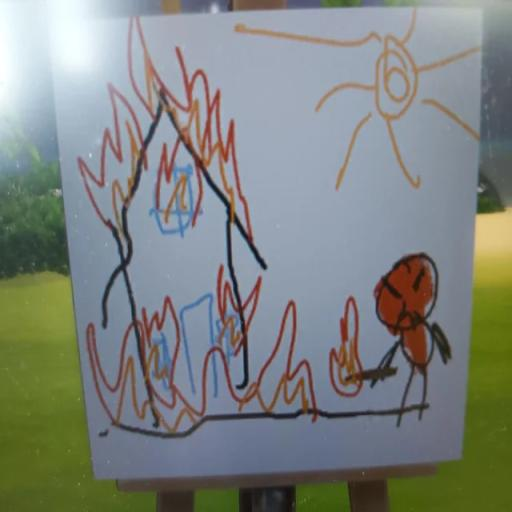person: (343, 236, 469, 433)
